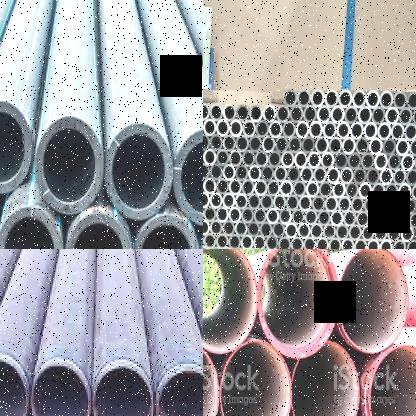pipe: (257, 249, 338, 358), (338, 249, 409, 352), (35, 116, 103, 214), (105, 122, 173, 220), (219, 339, 292, 416), (203, 249, 257, 352), (291, 341, 360, 416), (90, 361, 160, 416), (26, 359, 93, 416), (369, 344, 416, 416), (0, 101, 32, 193), (174, 128, 203, 226), (0, 205, 63, 249), (153, 367, 203, 416), (65, 214, 132, 249), (134, 214, 200, 249), (0, 357, 31, 416), (302, 104, 318, 124), (289, 103, 304, 124), (295, 119, 310, 140), (379, 90, 394, 110), (398, 106, 413, 126), (276, 103, 290, 124), (330, 104, 344, 125), (358, 104, 372, 125), (390, 121, 404, 142), (342, 135, 356, 156), (382, 136, 396, 157), (209, 102, 224, 121), (344, 105, 359, 124), (320, 151, 335, 170), (324, 88, 338, 108), (338, 88, 352, 108), (366, 90, 380, 110), (393, 90, 407, 110), (249, 103, 263, 123), (317, 104, 331, 124), (372, 105, 386, 125), (385, 106, 399, 126), (282, 119, 296, 139), (350, 120, 364, 140), (364, 120, 378, 140), (377, 121, 391, 141), (262, 134, 276, 154), (284, 88, 298, 108), (297, 88, 311, 108), (268, 120, 283, 138), (301, 136, 316, 154), (395, 138, 410, 156), (254, 150, 269, 168), (234, 164, 249, 182), (266, 179, 281, 197), (384, 182, 399, 200), (355, 210, 370, 228), (310, 89, 324, 108), (222, 103, 236, 122), (236, 103, 250, 122), (262, 104, 276, 123), (216, 118, 230, 137), (229, 119, 243, 138), (242, 119, 256, 138), (255, 119, 269, 138), (309, 120, 323, 139), (322, 121, 336, 140), (336, 121, 350, 140), (209, 133, 223, 152), (235, 134, 249, 153), (248, 134, 262, 153), (274, 135, 288, 154), (328, 136, 342, 155), (355, 136, 369, 155), (368, 136, 382, 155), (242, 149, 256, 168), (294, 150, 308, 169), (307, 151, 321, 170), (334, 151, 348, 170), (374, 152, 388, 171), (388, 152, 402, 171), (274, 165, 288, 184), (340, 166, 354, 185), (366, 167, 380, 186), (379, 167, 393, 186), (319, 180, 333, 199), (345, 180, 359, 199), (398, 182, 412, 201), (280, 151, 295, 168), (352, 90, 366, 108), (222, 134, 236, 152), (288, 136, 302, 154), (315, 136, 329, 154), (268, 150, 282, 168), (348, 152, 362, 170), (361, 152, 375, 170), (401, 153, 415, 171), (286, 165, 300, 183), (300, 166, 314, 184), (313, 166, 327, 184), (326, 166, 340, 184), (353, 167, 367, 185), (392, 168, 406, 186), (228, 178, 242, 196), (306, 180, 320, 198), (332, 181, 346, 199), (372, 182, 386, 200), (247, 192, 261, 210), (298, 194, 312, 212), (312, 194, 326, 212), (390, 197, 404, 215), (278, 208, 292, 226), (343, 210, 357, 228), (348, 224, 362, 242), (203, 117, 216, 136), (216, 148, 229, 167), (265, 208, 280, 224), (386, 226, 401, 242), (254, 179, 268, 196), (358, 182, 372, 199), (350, 196, 364, 213), (376, 197, 390, 214), (364, 197, 378, 214), (228, 206, 242, 223), (304, 209, 318, 226), (330, 210, 344, 227), (369, 211, 383, 228), (395, 212, 409, 229), (284, 223, 298, 240), (310, 223, 324, 240), (297, 223, 311, 240), (322, 223, 336, 240), (361, 225, 375, 242), (374, 225, 388, 242), (400, 225, 414, 242), (229, 149, 242, 167), (210, 162, 223, 180), (223, 163, 236, 181), (248, 164, 261, 182), (216, 178, 229, 196), (280, 180, 293, 198), (293, 180, 306, 198), (210, 192, 223, 210), (222, 192, 235, 210), (235, 192, 248, 210), (286, 194, 299, 212), (338, 196, 351, 214), (403, 197, 416, 215), (272, 221, 285, 239), (404, 122, 416, 141), (204, 148, 216, 167), (235, 219, 247, 238), (324, 196, 338, 212), (316, 210, 330, 226), (382, 212, 396, 228), (335, 224, 349, 240), (261, 165, 274, 182), (241, 207, 254, 224), (210, 219, 223, 236), (247, 221, 260, 238), (203, 232, 216, 249), (204, 177, 216, 195), (242, 178, 254, 196), (204, 205, 216, 223), (254, 206, 266, 224), (292, 208, 304, 226), (260, 220, 272, 238), (405, 167, 416, 186), (260, 194, 273, 210), (273, 194, 286, 210), (222, 220, 235, 236), (216, 206, 228, 223), (406, 90, 416, 110), (240, 234, 253, 249), (265, 234, 278, 249), (216, 233, 228, 249), (228, 233, 240, 249), (278, 235, 291, 249), (291, 235, 304, 249), (315, 236, 329, 249), (253, 234, 265, 249), (303, 236, 316, 249), (340, 237, 354, 249), (328, 237, 341, 249), (353, 238, 367, 249), (366, 238, 380, 249), (408, 212, 416, 230), (379, 238, 392, 249), (409, 137, 416, 157), (392, 239, 406, 249), (203, 132, 210, 151), (203, 162, 210, 180), (203, 191, 210, 208), (203, 102, 209, 121), (406, 239, 416, 249), (203, 219, 209, 235), (411, 182, 416, 201), (412, 106, 416, 126)
